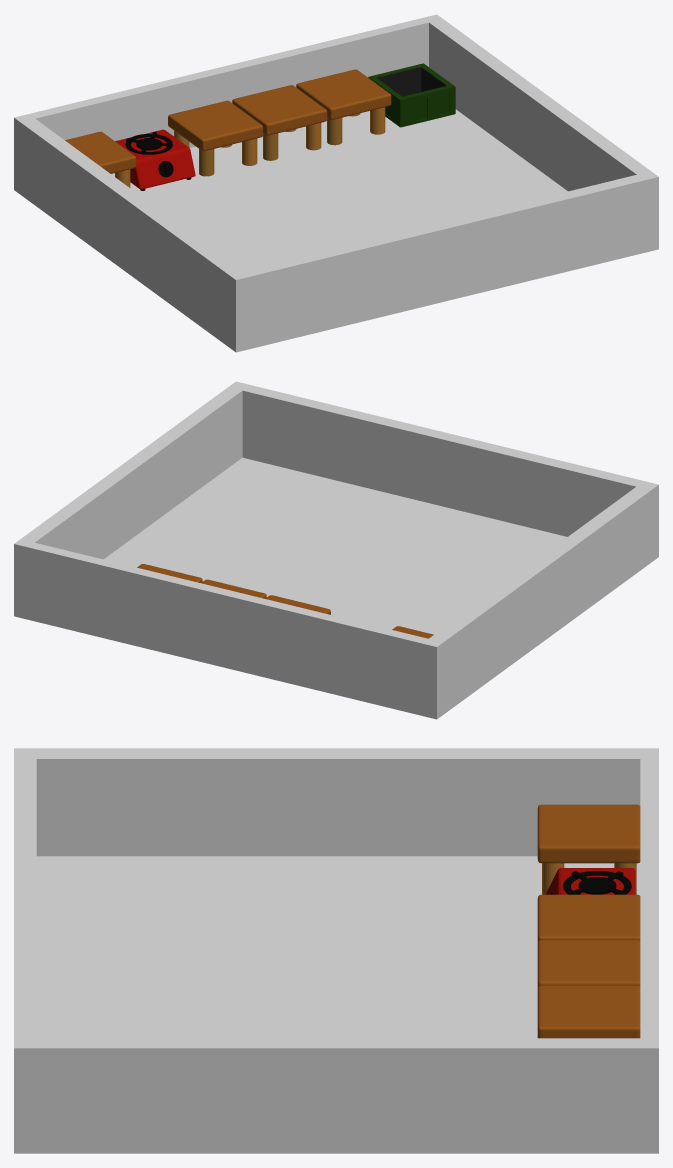
Rendered from Room.fbx.
3 views of the same model, one above another, from view 1: azimuth 30°, elevation 25°; view 2: azimuth 150°, elevation 25°; view 3: azimuth 270°, elevation 25° (orthographic). The views are drawn at different scales.
Parts seen in each view (by area): view 1: Wall, Table 2, Table 4, Table 3, Trash Can, Stove, Table 1; view 2: Wall; view 3: Wall, Table 1, Table 4, Table 3, Table 2, Stove.
Boxes of the visible parts, x1=… form: Wall: x1=14, y1=14, x2=658, y2=352; Table 2: x1=168, y1=100, x2=262, y2=176; Table 4: x1=296, y1=69, x2=391, y2=145; Table 3: x1=232, y1=85, x2=327, y2=160; Trash Can: x1=368, y1=63, x2=455, y2=127; Stove: x1=115, y1=129, x2=195, y2=190; Table 1: x1=65, y1=131, x2=136, y2=187; Wall: x1=14, y1=381, x2=658, y2=719; Wall: x1=14, y1=748, x2=658, y2=1153; Table 1: x1=537, y1=804, x2=640, y2=894; Table 4: x1=537, y1=985, x2=640, y2=1038; Table 3: x1=537, y1=940, x2=640, y2=988; Table 2: x1=537, y1=894, x2=640, y2=943; Stove: x1=545, y1=868, x2=635, y2=894.
Size of the model in its own units: 3300 by 540 by 3000.
